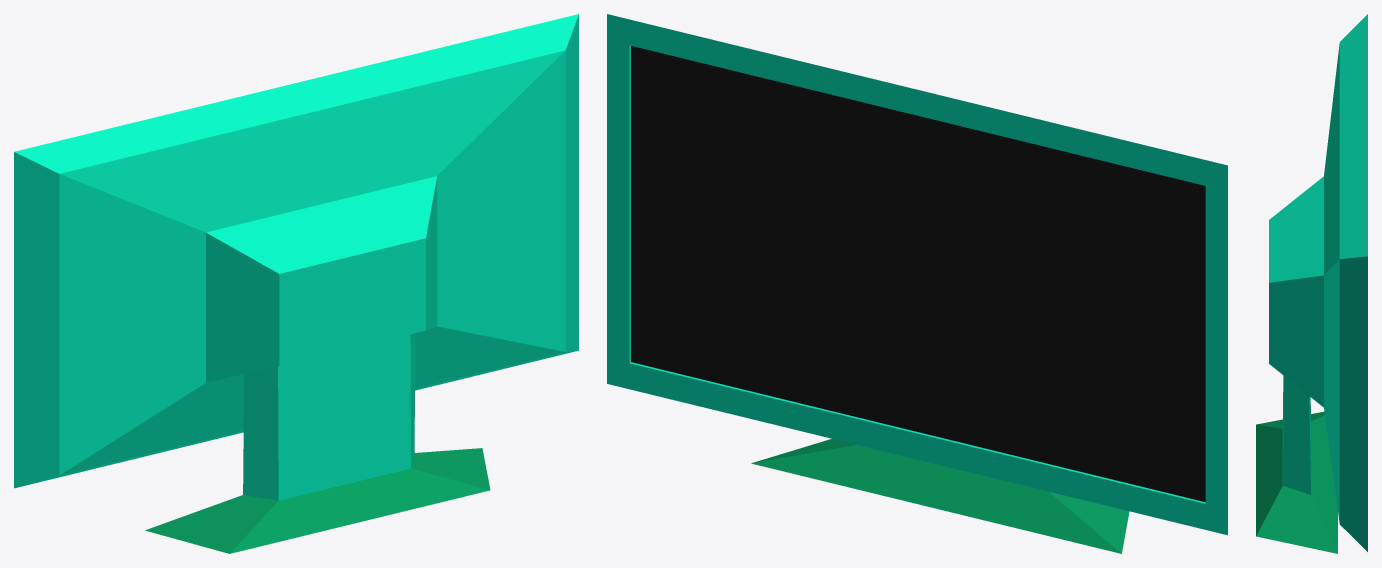
File: Television.FBX
3 views of the same model, side by side, from view 1: azimuth 30°, elevation 25°; view 2: azimuth 150°, elevation 25°; view 3: azimuth 270°, elevation 25° (orthographic). The views are drawn at different scales.
Visible parts, largest first — view 1: Television; view 2: Television; view 3: Television.
Part boxes in pixels (bbox=[...]): Television: bbox=[14, 14, 578, 553]; Television: bbox=[607, 14, 1227, 553]; Television: bbox=[1256, 14, 1367, 553].
Bounding box in the file's own units: 26.34 × 17.55 × 5.14.
Materials: 1 (1 with a texture image).
